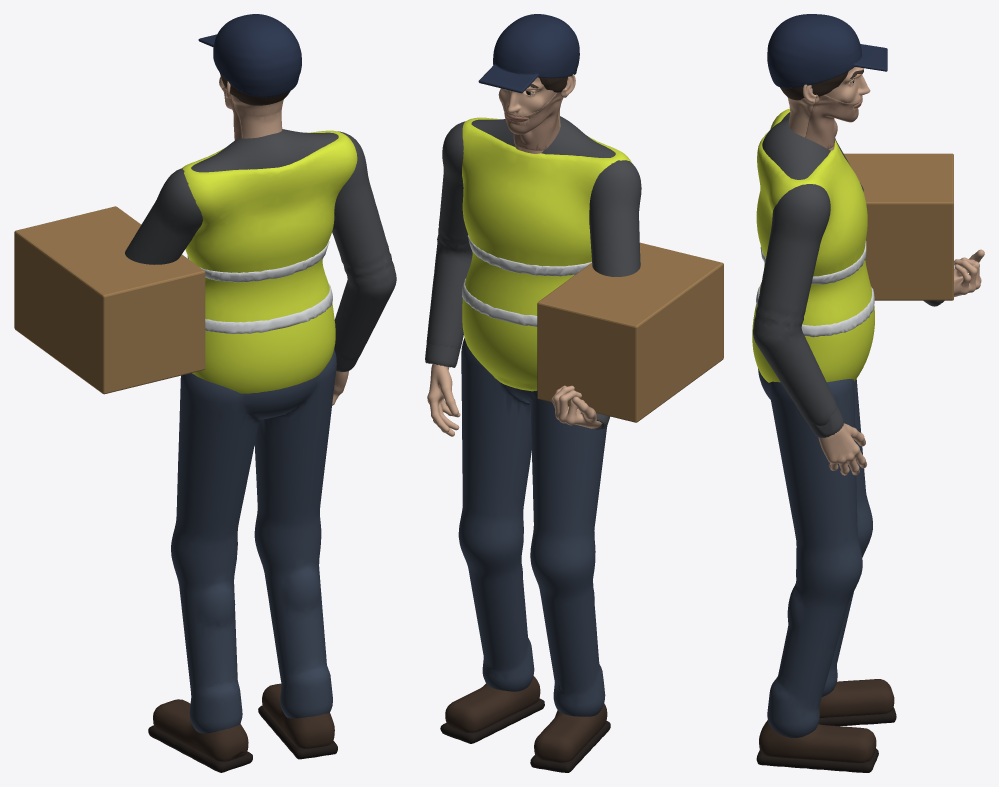
Rendered from hivis_door.glb.
The picture shows the model from 3 angles, left to right: view 1: azimuth 30°, elevation 25°; view 2: azimuth 150°, elevation 25°; view 3: azimuth 270°, elevation 25°; orthographic projection. The views are drawn at different scales.
Visible parts, largest first — view 1: hivis_door_body, case, hivis_door_head; view 2: hivis_door_body, case, hivis_door_head, hivis_door_hands; view 3: hivis_door_body, case, hivis_door_head, hivis_door_hands.
Boxes of the visible parts, x1=… form: hivis_door_body: x1=125, y1=129, x2=396, y2=772; case: x1=14, y1=206, x2=205, y2=394; hivis_door_head: x1=198, y1=14, x2=301, y2=140; hivis_door_body: x1=426, y1=116, x2=641, y2=772; case: x1=537, y1=242, x2=723, y2=422; hivis_door_head: x1=478, y1=14, x2=579, y2=153; hivis_door_hands: x1=425, y1=343, x2=609, y2=436; hivis_door_body: x1=752, y1=108, x2=896, y2=772; case: x1=844, y1=153, x2=953, y2=300; hivis_door_head: x1=767, y1=14, x2=887, y2=150; hivis_door_hands: x1=807, y1=249, x2=984, y2=475.
Bounding box in the file's own units: 0.747 × 1.79 × 0.5214.
